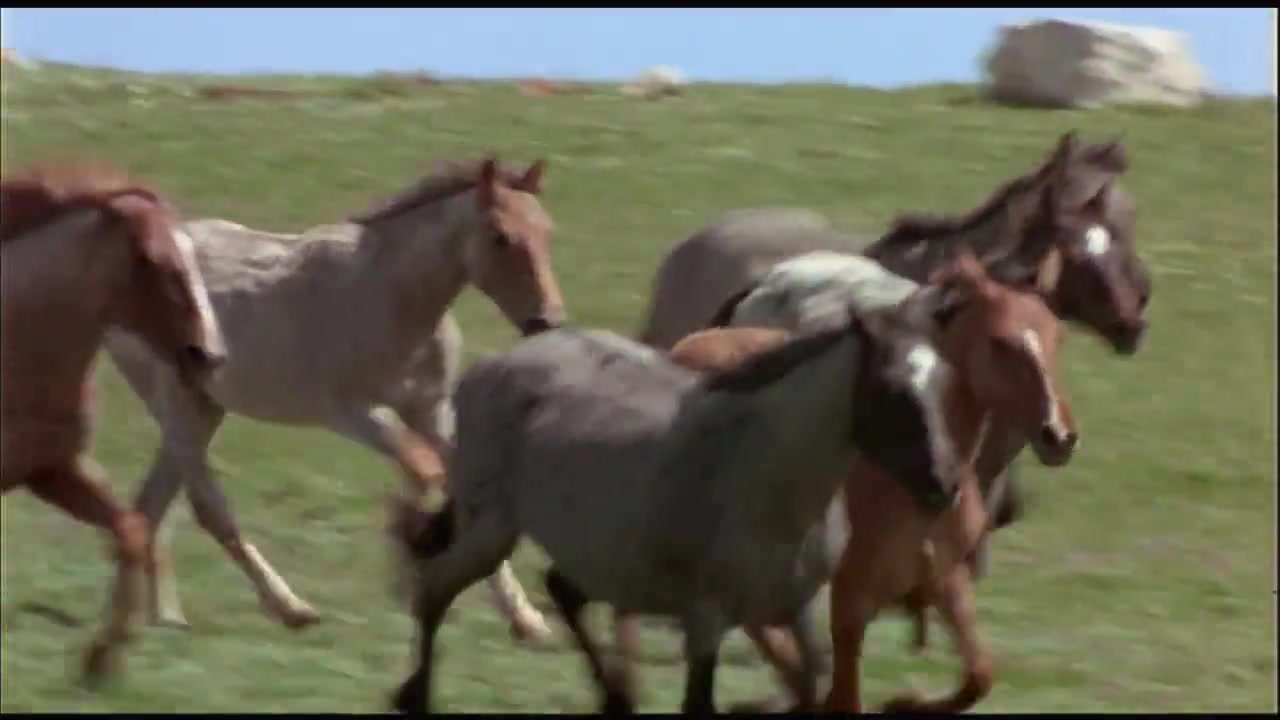horse: (391, 293, 965, 720)
